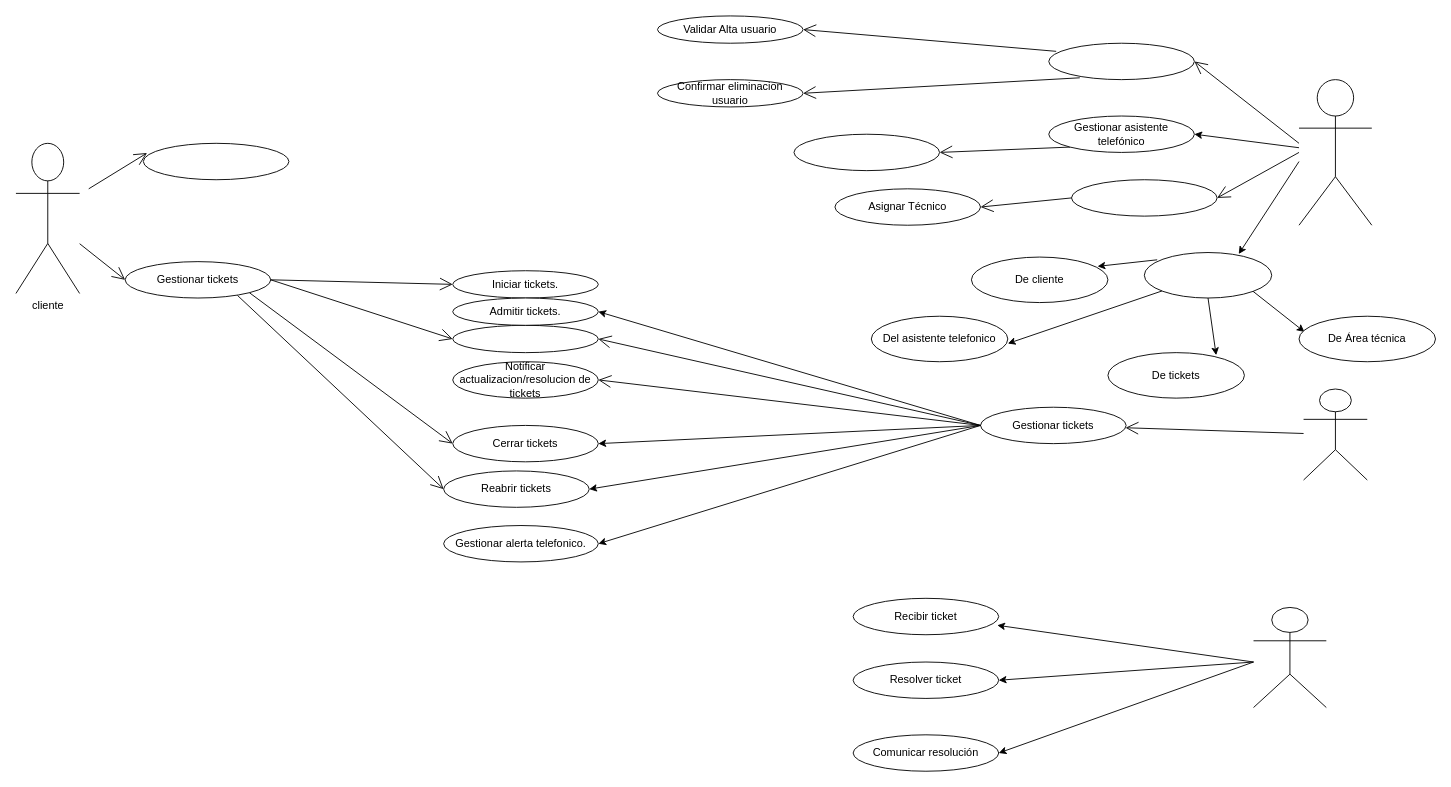
Some shapes in this 1451 by 787 pixel diagram are drawn without their labels. The shapes that lost their labels are listed below. From the top down, each one's centre as x and y in pixels, then its label:
At pixel 1121 61: "Gestionar clientes".
At pixel 215 161: "Gestionar usuario".
At pixel 866 152: "Asignar Asistente".
At pixel 1335 152: "operador".
At pixel 1144 197: "Gestionar técnico".
At pixel 1207 275: "Generar reporte".
At pixel 525 338: "Consultar tickets".
At pixel 1335 434: "Asistente Telefonico".
At pixel 1289 657: "Técnico".
